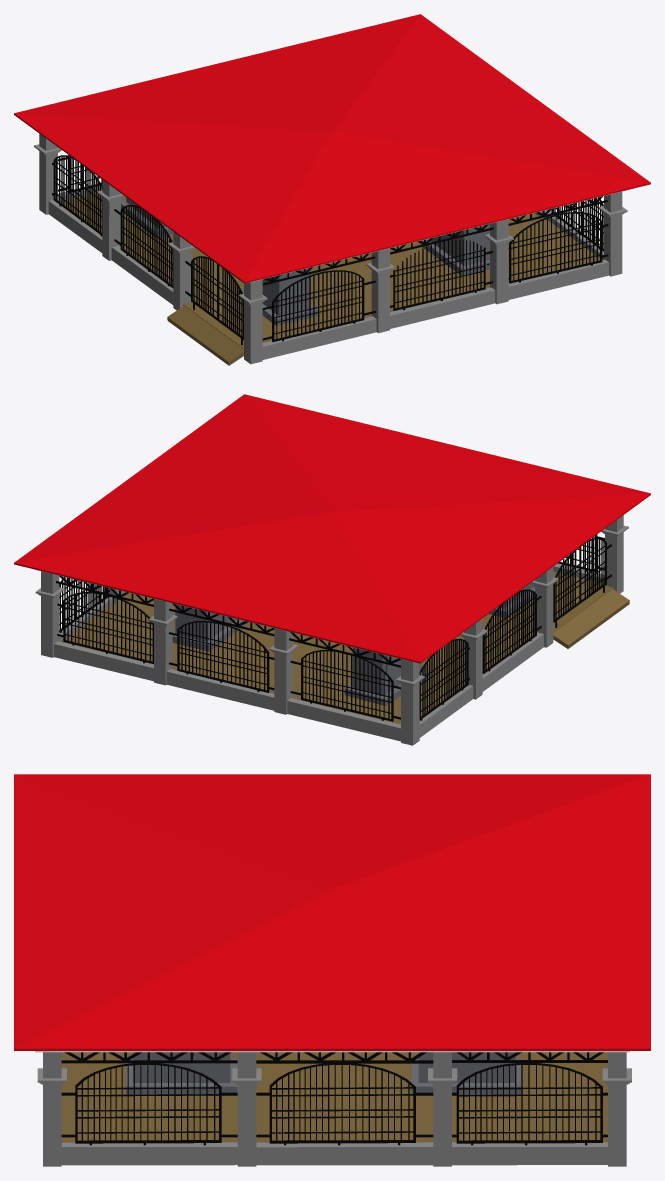
The model's file is generatorbuilding.fbx.
3 renders of one model, top to bottom at view 1: azimuth 30°, elevation 25°; view 2: azimuth 150°, elevation 25°; view 3: azimuth 270°, elevation 25°, orthographic. The views are drawn at different scales.
Parts seen in each view (by area): view 1: Cube.127, Cube.016, Cube, Cube.459, Cube.164, Cube.197, Cube.316, Cube.111, Cube.118, Cube.229, Cube.120, Cube.044; view 2: Cube.127, Cube.016, Cube, Cube.459, Cube.356, Cube.429, Cube.391, Cube.111, Cube.118, Cube.229, Cube.120, Cube.269; view 3: Cube.127, Cube, Cube.016, Cube.459, Cube.044, Cube.009, Cube.269, Cube.120.
Boxes of the visible parts, x1,y1,x2,y2 form: Cube.127: (14,14,650,283); Cube.016: (34,134,627,364); Cube: (61,193,599,365); Cube.459: (121,197,489,325); Cube.164: (262,271,375,341); Cube.197: (390,239,493,310); Cube.316: (487,213,608,283); Cube.111: (114,206,173,288); Cube.118: (185,257,243,345); Cube.229: (52,156,102,236); Cube.120: (262,196,607,285); Cube.044: (551,198,603,251); Cube.127: (14,394,650,663); Cube.016: (35,515,628,745); Cube: (61,571,629,724); Cube.459: (172,583,534,705); Cube.356: (290,651,400,721); Cube.429: (57,593,153,664); Cube.391: (169,622,274,692); Cube.111: (482,591,541,673); Cube.118: (553,539,611,627); Cube.229: (419,640,469,720); Cube.120: (56,575,400,667); Cube.269: (59,577,109,632); Cube.127: (14,774,650,1052); Cube: (61,1052,607,1142); Cube.016: (37,1052,631,1166); Cube.459: (126,1052,522,1095); Cube.044: (61,1064,237,1145); Cube.009: (256,1064,433,1145); Cube.269: (452,1064,607,1145); Cube.120: (61,1052,607,1063).
Bounding box in the file's own units: 1335 × 358 × 1310.
